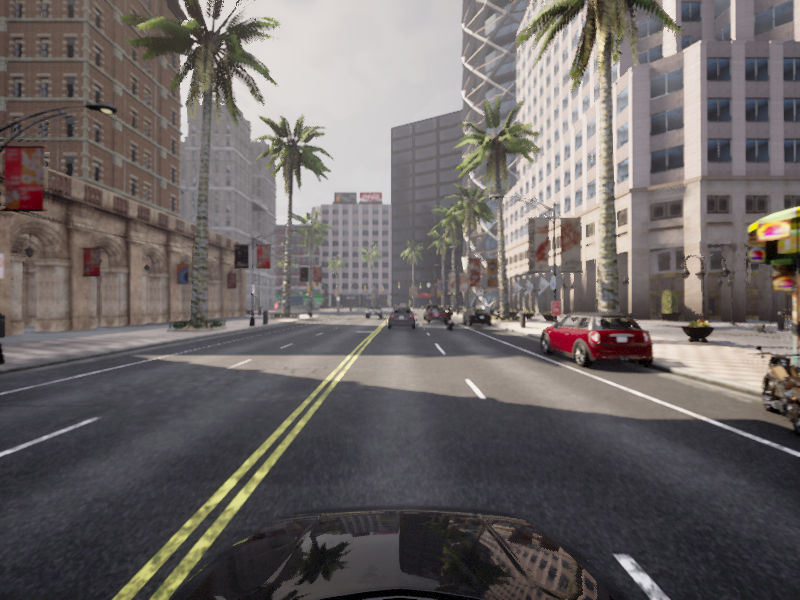vehicle: (387, 306, 416, 329), (424, 306, 448, 323), (442, 307, 456, 331), (391, 305, 412, 320), (423, 303, 441, 320), (364, 303, 383, 319)
